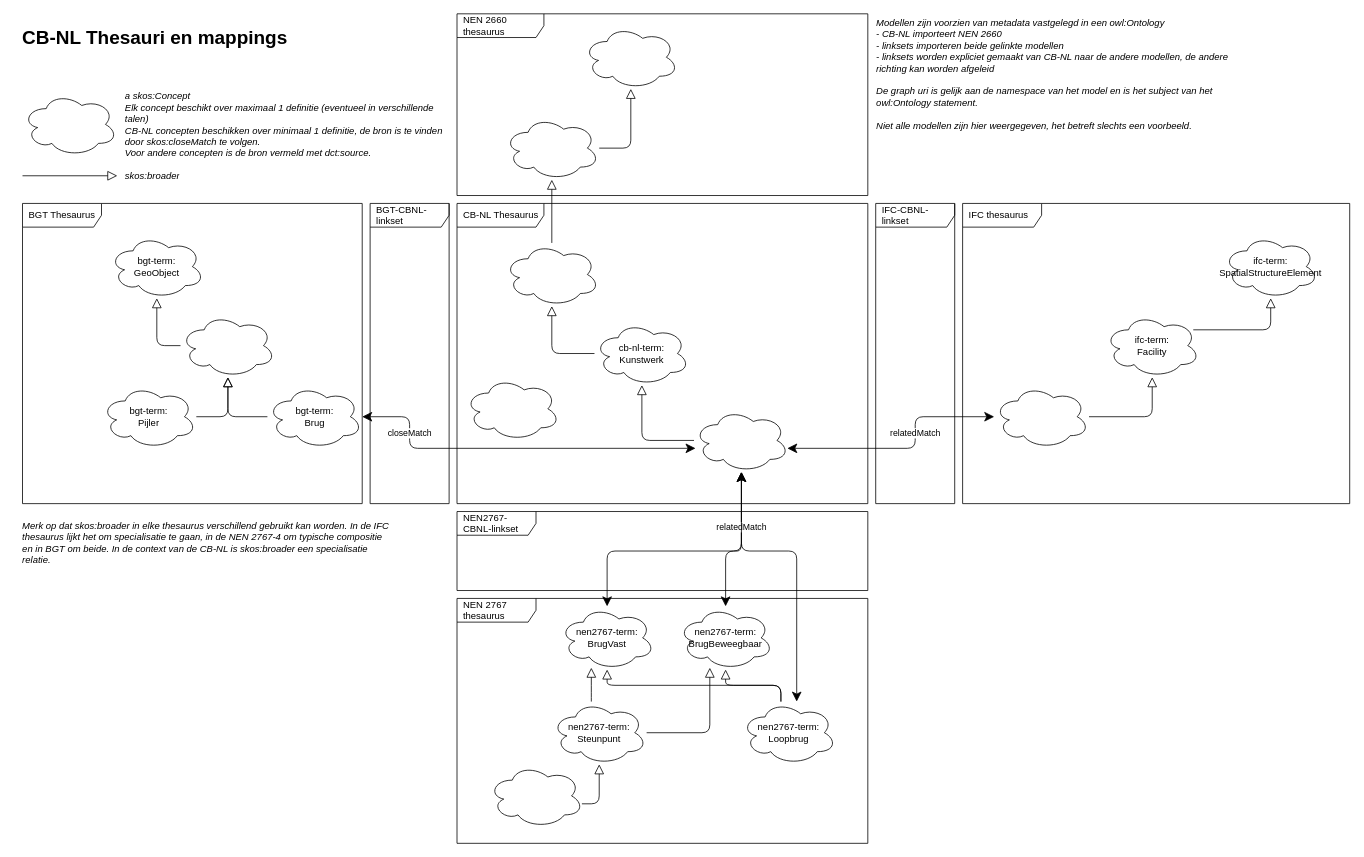
This 1364x857 diagram has some shape labels left out. Each missing label, with the centre of its shape:
bgt-term: Overbruggingsdeel: point 227,345
cb-nl-term: Bouwwerk: point 551,274
cb-nl-term: Brug: point 741,440
cb-nl-term: Pijler: point 512,408
Concept: point 69,124
ifc-term: Bridge: point 1041,416
nen2660-term: DiscreetObject: point 551,148
nen2660-term: PhysicalObject: point 630,57
nen2767-term: Pijler: point 535,796
